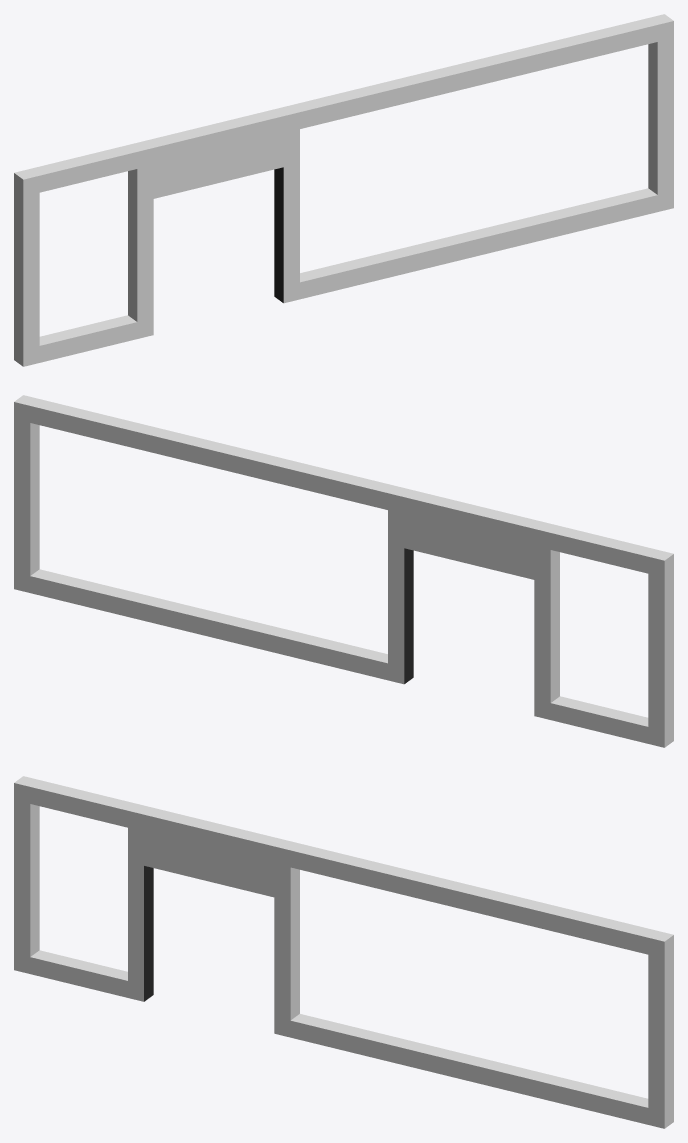
File: Hall_01_Fill.fbx
3 renders of one model, top to bottom at view 1: azimuth 30°, elevation 25°; view 2: azimuth 150°, elevation 25°; view 3: azimuth 330°, elevation 25°, orthographic.
Visible parts, largest first — view 1: Hall_01_Fill; view 2: Hall_01_Fill; view 3: Hall_01_Fill.
Boxes of the visible parts, x1,y1,x2,y2 form: Hall_01_Fill: [14, 14, 673, 366]; Hall_01_Fill: [14, 395, 673, 747]; Hall_01_Fill: [14, 776, 673, 1128].
Bounding box in the file's own units: 4000 × 1100 × 100.
